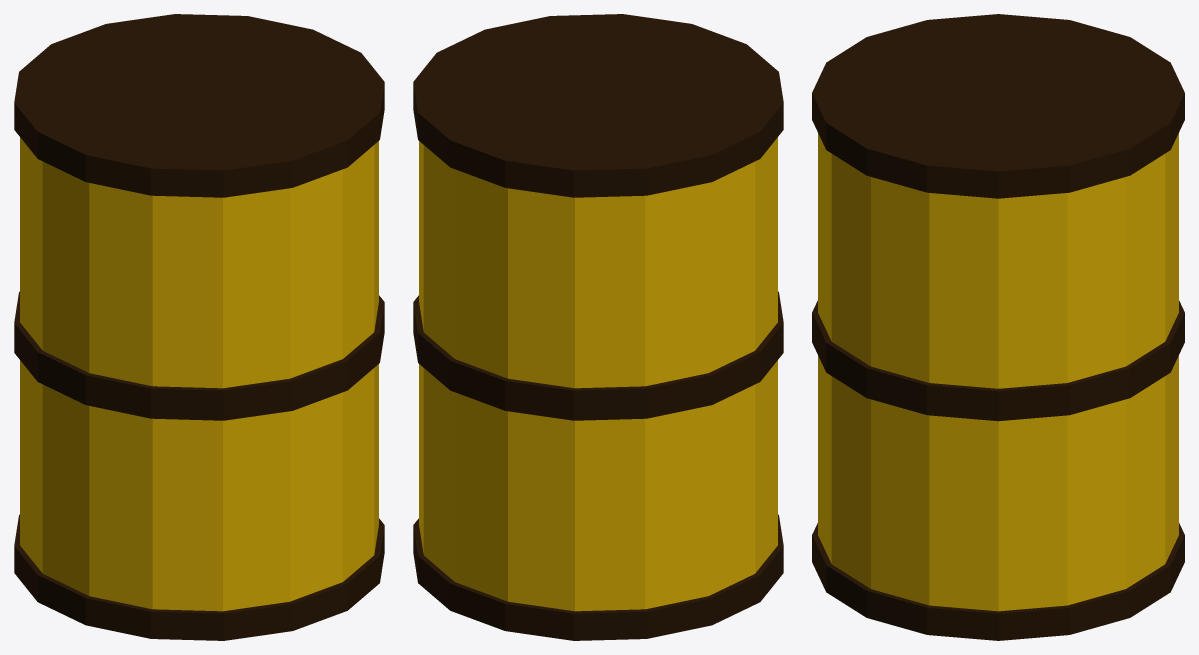
The model's file is hazardousWasteBarrel.glb.
3 views of the same model, side by side, from view 1: azimuth 30°, elevation 25°; view 2: azimuth 150°, elevation 25°; view 3: azimuth 270°, elevation 25° (orthographic).
Parts seen in each view (by area): view 1: Cylinder; view 2: Cylinder; view 3: Cylinder.
Boxes of the visible parts, x1,y1,x2,y2 form: Cylinder: [14, 14, 384, 640]; Cylinder: [413, 14, 783, 640]; Cylinder: [812, 14, 1184, 640].
Size of the model in its own units: 2.07 by 2.87 by 2.07.
